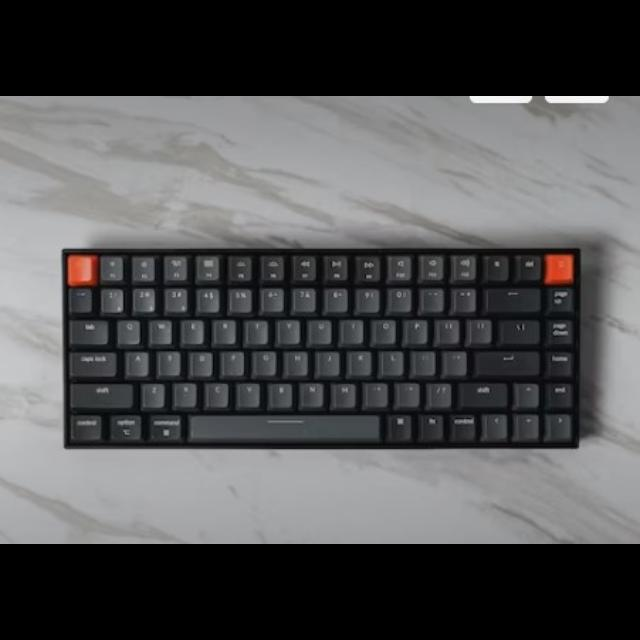Computer-Keyboard: (60, 248, 590, 452)
